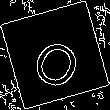O_NE: (24, 22, 86, 88)
